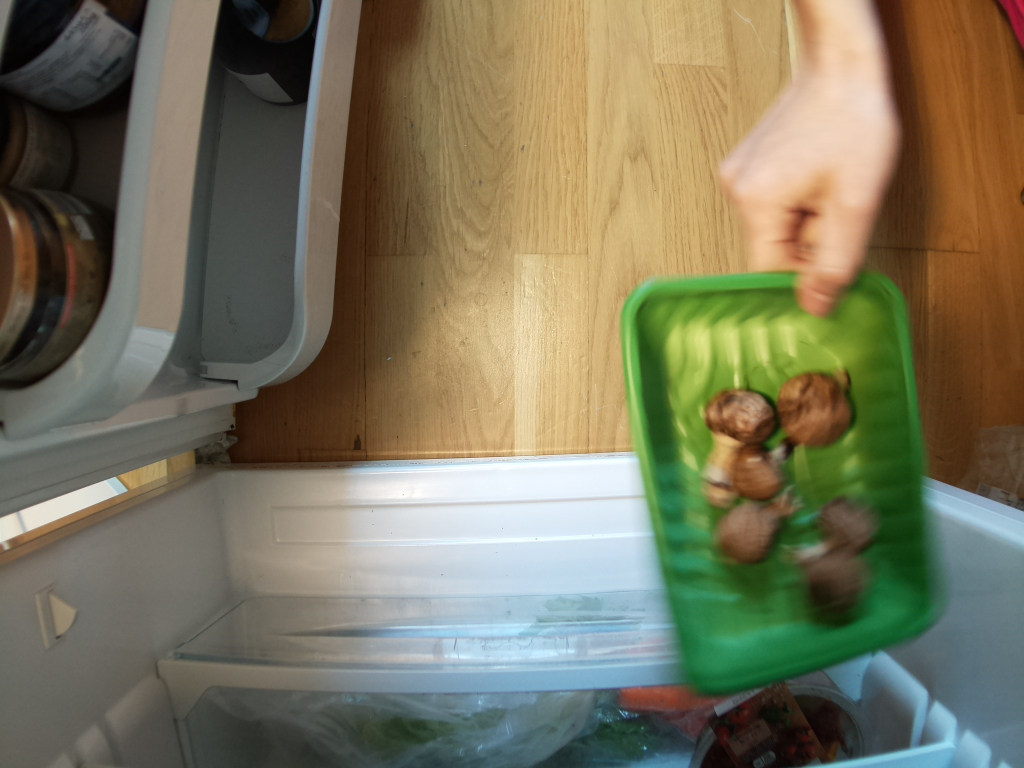mushrooms-bad: (620, 256, 950, 695)
